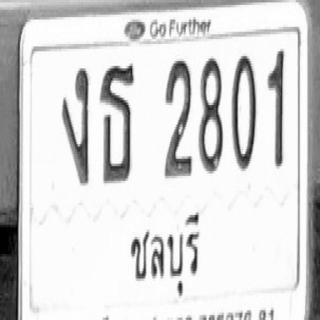A07: (61, 63, 89, 183)
A24: (99, 60, 134, 182)
N00: (231, 53, 256, 170)
N01: (267, 48, 285, 167)
N02: (164, 56, 192, 176)
N08: (198, 55, 223, 172)
P13: (124, 207, 204, 303)
